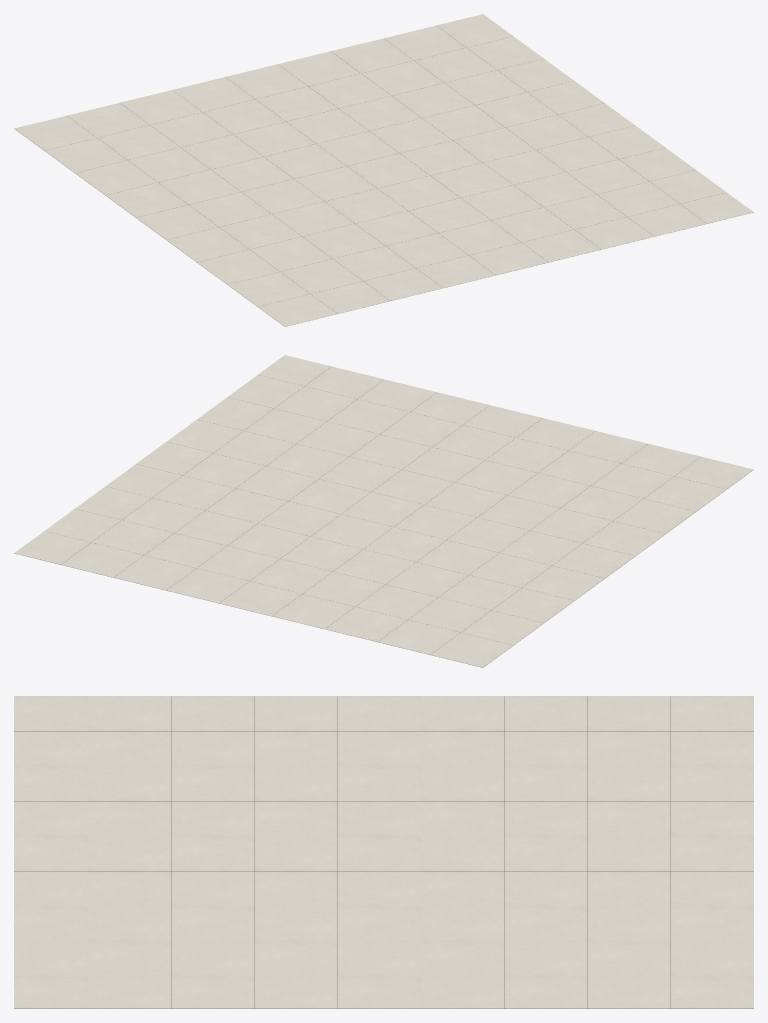
The model's file is marisa-marfil-90x90.glb.
3 renders of one model, top to bottom at view 1: azimuth 30°, elevation 25°; view 2: azimuth 150°, elevation 25°; view 3: azimuth 270°, elevation 25°, orthographic. The views are drawn at different scales.
Visible parts, largest first — view 1: Marisa Marfil; view 2: Marisa Marfil; view 3: Marisa Marfil.
Boxes of the visible parts, box(x1,y1,x2,y2) form: Marisa Marfil: box(14, 14, 753, 326); Marisa Marfil: box(14, 355, 753, 667); Marisa Marfil: box(14, 696, 753, 1008).
Size of the model in its own units: 8 by 0.003 by 8.
2 materials, 1 textured.
